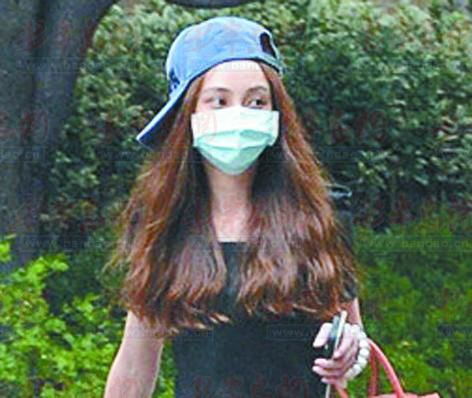face_mask: (189, 62, 274, 169)
